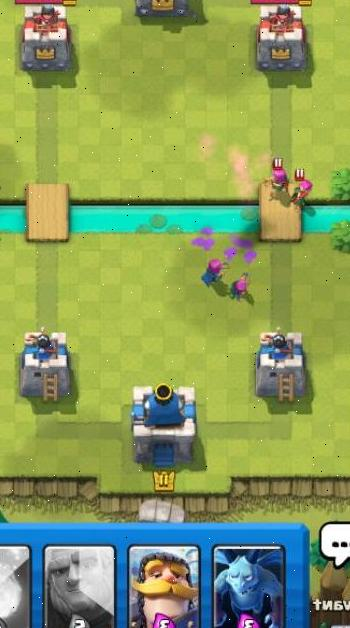enemy_archers: (264, 158, 291, 194), (289, 169, 315, 205)
player_archers: (197, 253, 228, 288), (226, 268, 256, 303)
